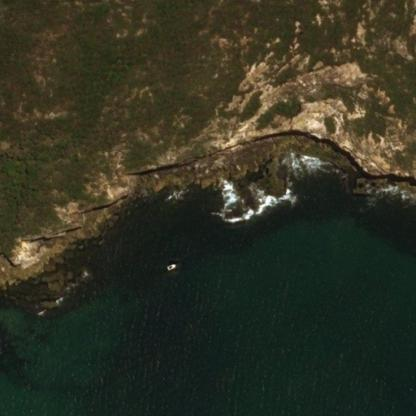ship: (0, 247, 9, 253)
